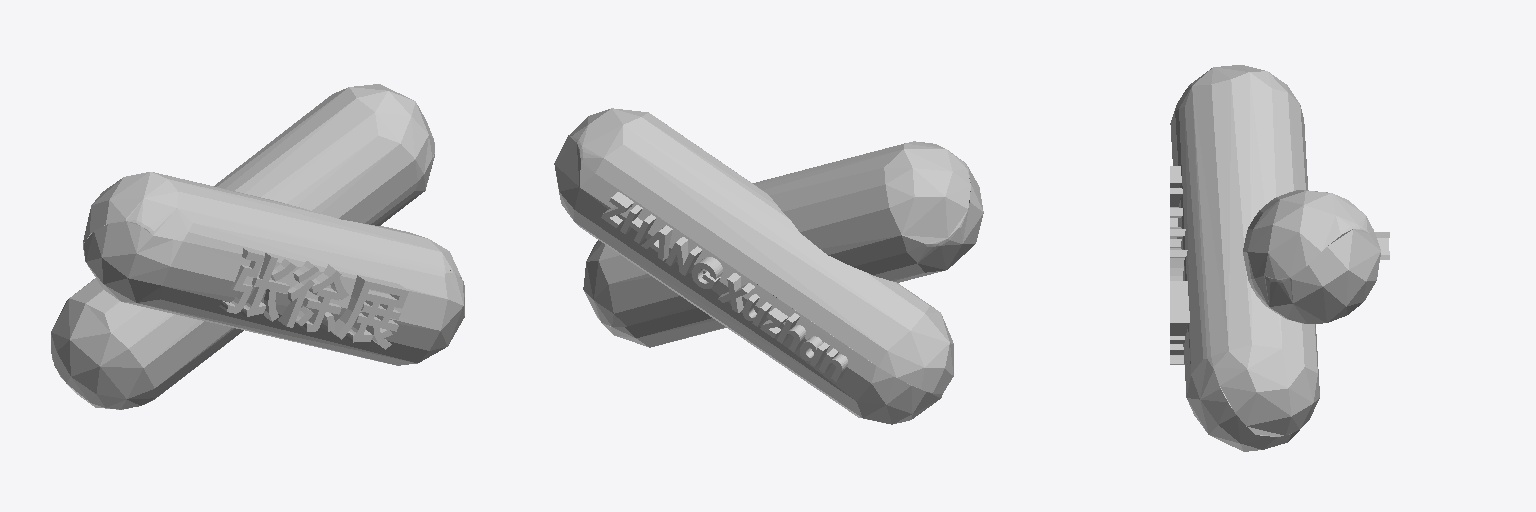
File: ZhangXuzhan.obj
3 views of the same model, side by side, from view 1: azimuth 30°, elevation 25°; view 2: azimuth 150°, elevation 25°; view 3: azimuth 270°, elevation 25° (orthographic).
Visible parts, largest first — view 1: root_3, root_2, node_id898; view 2: root_2, root_3, node_id909; view 3: root_3, root_2, node_id898.
Boxes of the visible parts, x1,y1,x2,y2 form: root_3: [83, 172, 464, 365]; root_2: [51, 84, 434, 409]; node_id898: [219, 248, 408, 349]; root_2: [554, 108, 953, 424]; root_3: [583, 141, 983, 347]; node_id909: [601, 192, 847, 381]; root_3: [1170, 65, 1319, 451]; root_2: [1243, 190, 1380, 323]; node_id898: [1170, 166, 1189, 364].
Bounding box in the file's own units: 0.289 × 0.1836 × 0.1458.